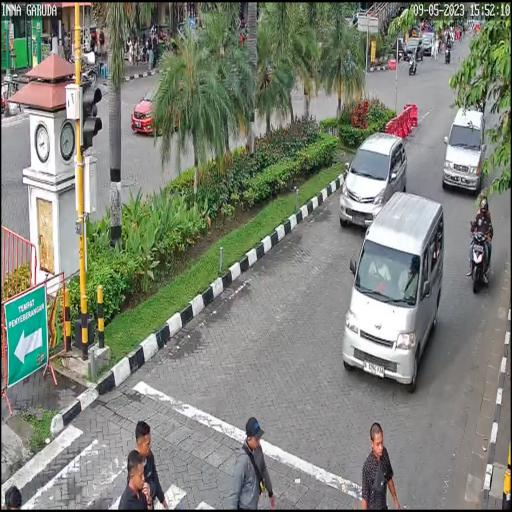mobil: (341, 187, 446, 387), (337, 133, 410, 238), (444, 106, 485, 196)
motor: (466, 216, 495, 298)
